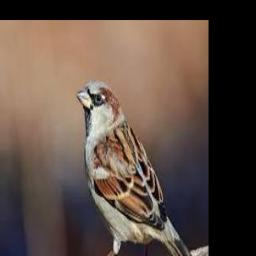Sparrow: (77, 80, 194, 256)
